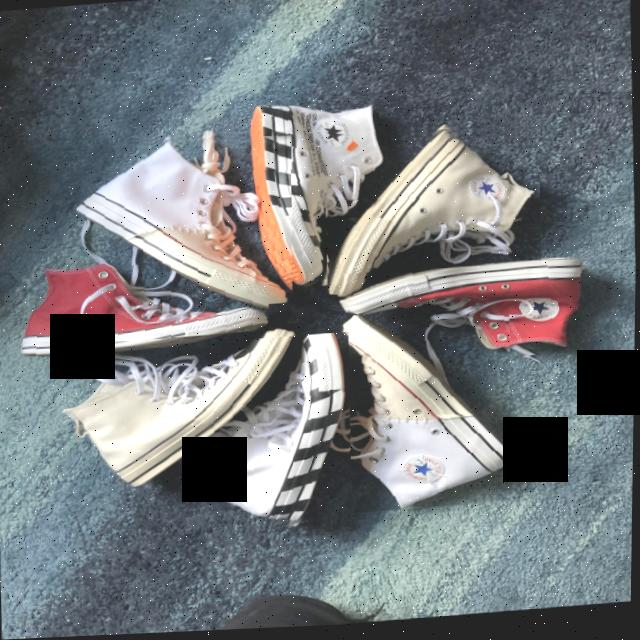shoe: (73, 127, 297, 320), (321, 120, 544, 304), (61, 331, 299, 496), (332, 308, 517, 517), (181, 334, 355, 539), (245, 95, 387, 296), (344, 260, 584, 373), (21, 252, 271, 358)
